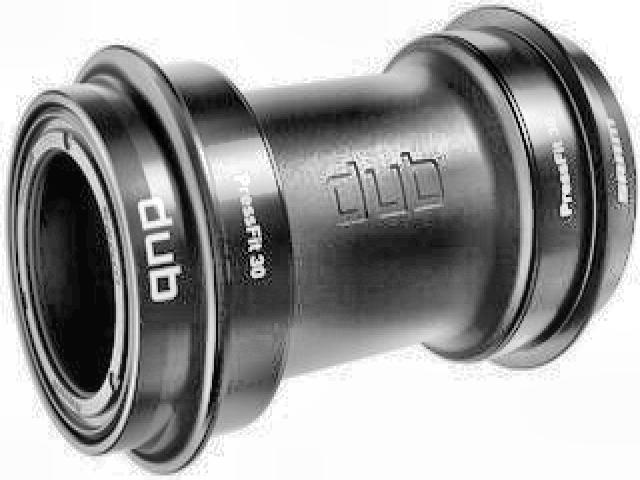bottom_bracket: (5, 4, 638, 478)
